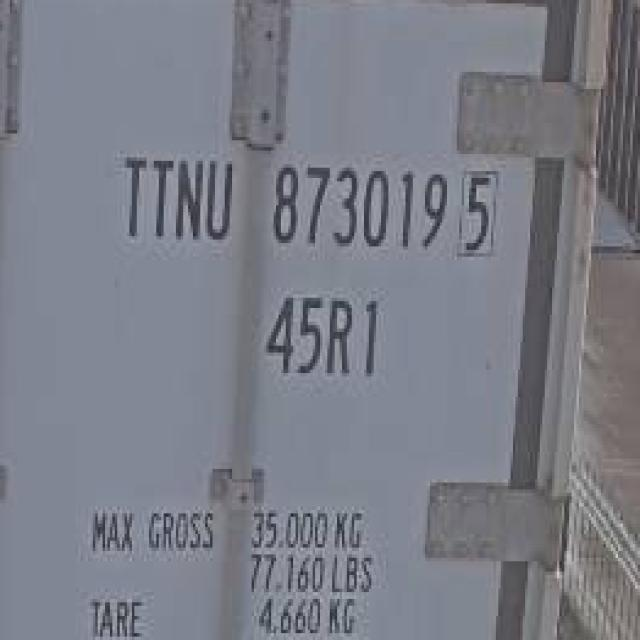dv: (453, 159, 507, 262)
owner: (116, 146, 238, 252)
serial: (261, 158, 451, 258)
size: (258, 285, 390, 387)
